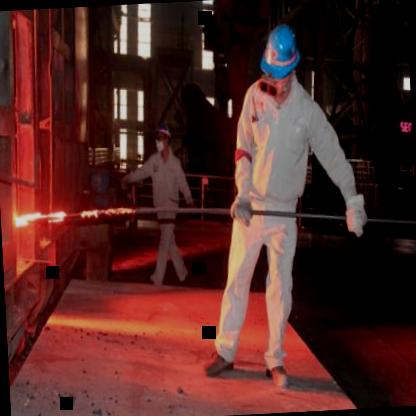helmet: (257, 18, 305, 98), (152, 120, 174, 152)
